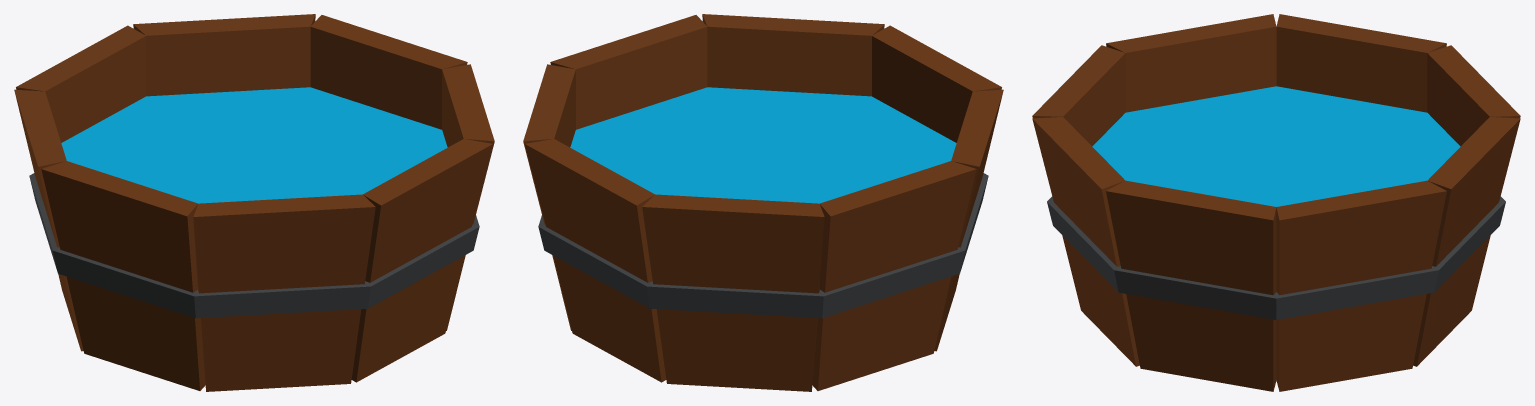
The model's file is Barrel.fbx.
3 renders of one model, left to right at view 1: azimuth 30°, elevation 25°; view 2: azimuth 150°, elevation 25°; view 3: azimuth 270°, elevation 25°, orthographic.
Parts seen in each view (by area): view 1: Barrel, Cylinder.003; view 2: Barrel, Cylinder.003; view 3: Barrel, Cylinder.003.
Part boxes in pixels (<box>): Barrel: <box>14,14,494,391</box>; Cylinder.003: <box>29,173,479,318</box>; Barrel: <box>523,14,1003,391</box>; Cylinder.003: <box>538,173,988,318</box>; Barrel: <box>1032,14,1520,391</box>; Cylinder.003: <box>1047,196,1505,320</box>.
Bounding box in the file's own units: 230 × 100 × 230.
